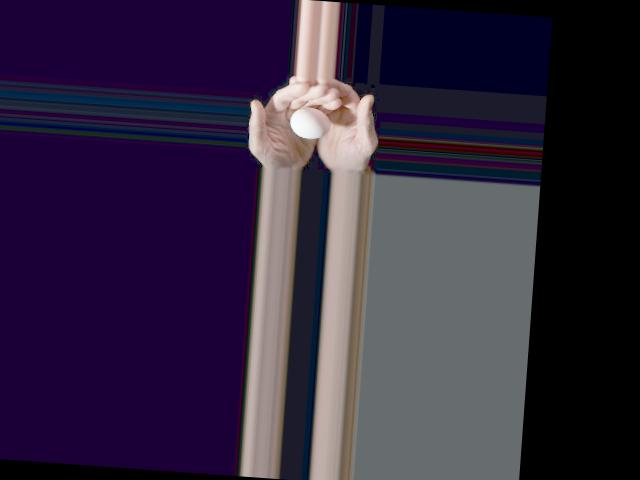egg: (288, 105, 331, 140)
